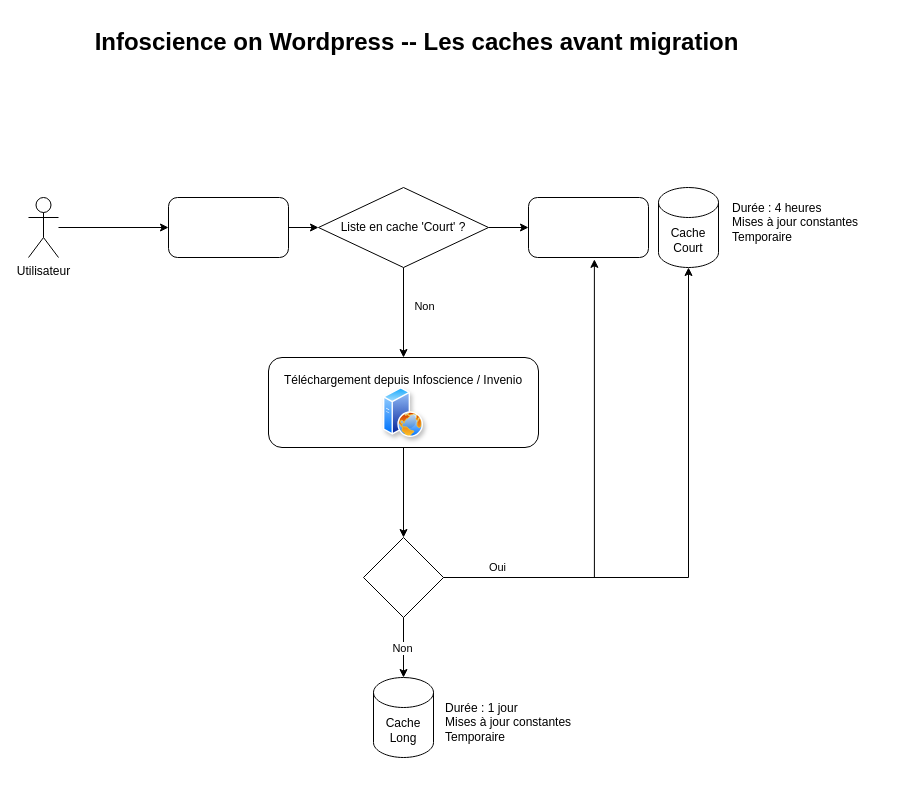
Image size: 908x790. Some labels were removed from this diagram. Here are the shapes that lost their labels. From the top down, the centre of each, then its label:
At [228,227]: "Demande une page avec un block Infoscience".
At [588,227]: "Affichage du cache 'Court'".
At [403,577]: "Succès ?".
